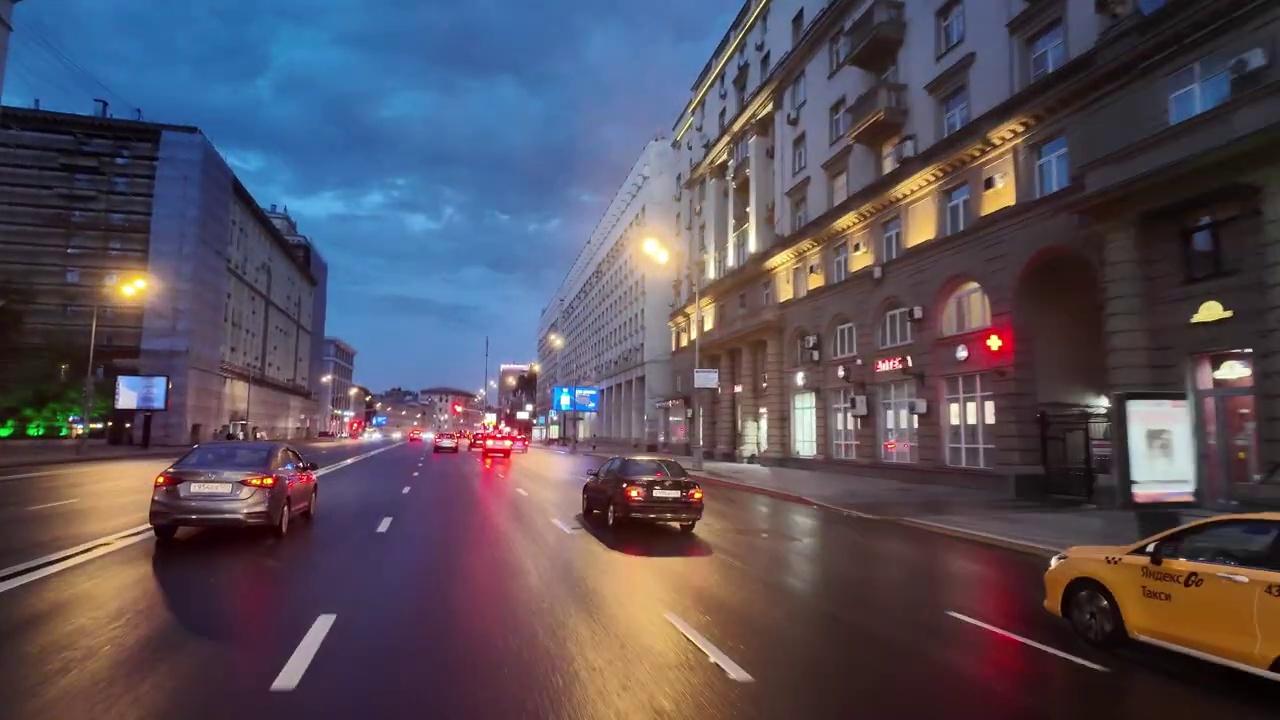acesa: (633, 232, 677, 275), (110, 272, 152, 306), (545, 330, 566, 352)
